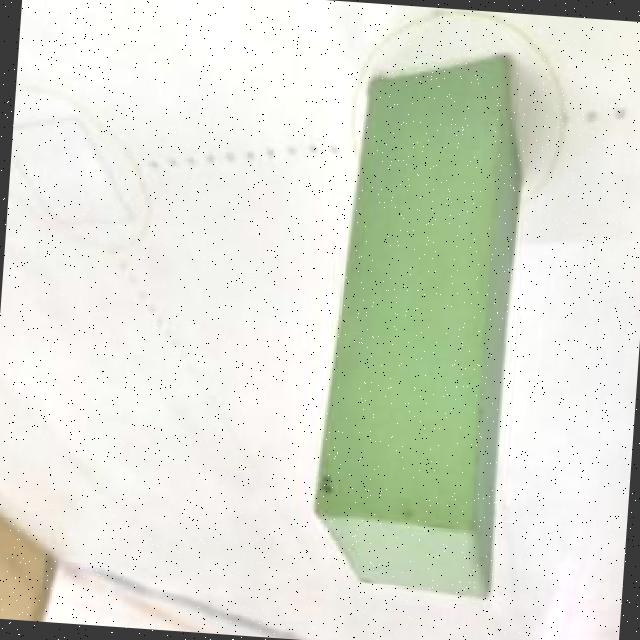greenbox: (306, 44, 526, 600)
